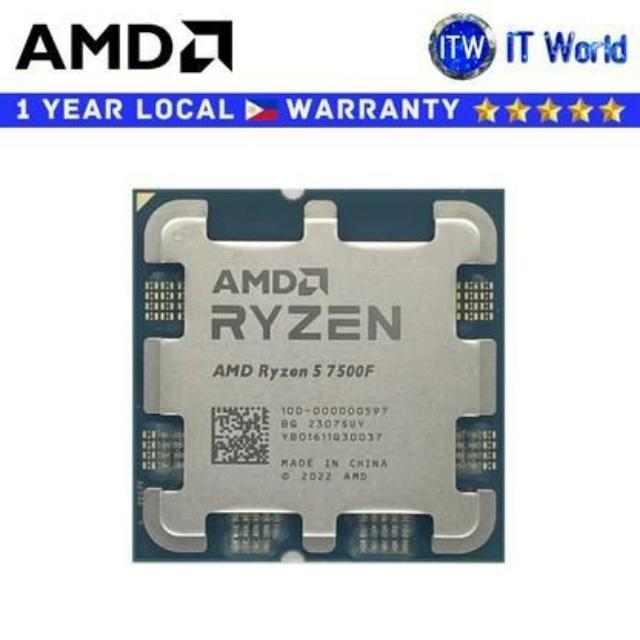CPU: (140, 193, 500, 561)
